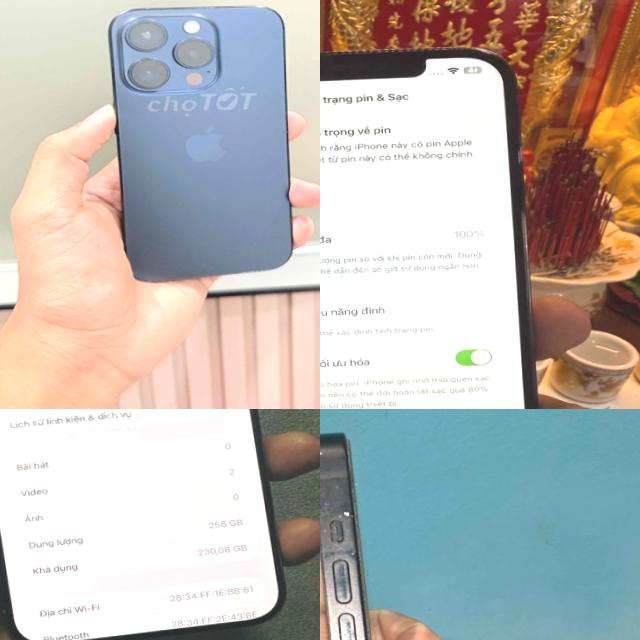scratch: (320, 432, 370, 591), (340, 599, 395, 640)
